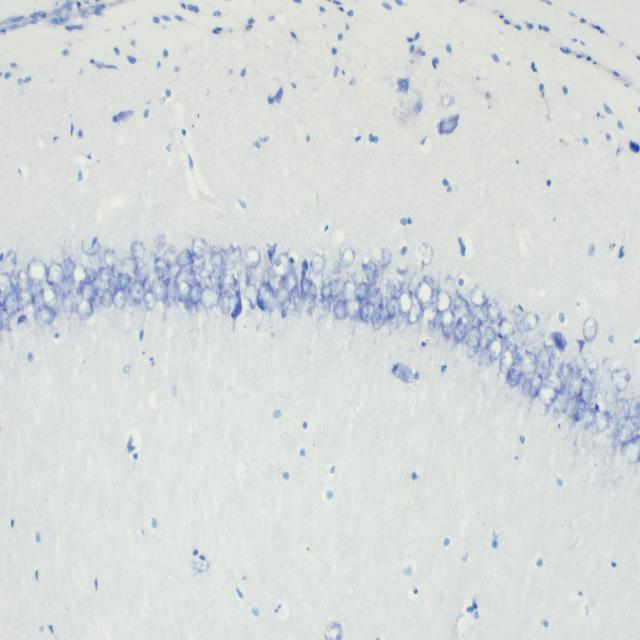neuron: (256, 282, 277, 313), (623, 433, 640, 465), (525, 371, 543, 399), (611, 367, 631, 392), (27, 258, 47, 282), (398, 288, 413, 319), (550, 330, 568, 355), (415, 281, 434, 304), (128, 281, 146, 305), (201, 285, 219, 309), (46, 263, 65, 285), (262, 254, 278, 280), (499, 348, 515, 374), (582, 316, 598, 342), (3, 292, 20, 316), (452, 316, 467, 343), (344, 296, 362, 318), (284, 265, 298, 293), (244, 245, 261, 268), (488, 334, 503, 360), (243, 284, 259, 308), (36, 305, 56, 324), (72, 263, 87, 288), (595, 411, 610, 436), (42, 287, 58, 310), (78, 298, 94, 321), (192, 237, 208, 260), (418, 243, 434, 266), (81, 236, 101, 254), (470, 287, 488, 307), (538, 386, 556, 406), (112, 287, 128, 309), (152, 279, 168, 301), (332, 298, 348, 320), (436, 290, 452, 312), (523, 311, 539, 333), (0, 271, 13, 298), (17, 268, 31, 293), (3, 250, 17, 275), (310, 254, 326, 275), (340, 247, 356, 268), (407, 302, 421, 326), (546, 371, 562, 392), (362, 261, 377, 283), (558, 356, 573, 378), (498, 319, 515, 338), (568, 374, 582, 397), (580, 407, 594, 430), (130, 241, 146, 261), (163, 246, 179, 266), (342, 280, 358, 300), (466, 324, 482, 344), (453, 296, 469, 316), (477, 346, 493, 366), (62, 292, 76, 314), (218, 292, 232, 314), (372, 308, 386, 330), (354, 281, 370, 300), (614, 398, 630, 417), (81, 282, 96, 302), (179, 248, 194, 268), (582, 377, 594, 402), (466, 335, 479, 358), (488, 299, 501, 322), (564, 396, 578, 417), (422, 304, 439, 321), (178, 280, 190, 304), (320, 278, 332, 302), (439, 310, 455, 328), (190, 282, 203, 304), (474, 305, 489, 324), (104, 248, 118, 268), (143, 290, 157, 310), (538, 349, 552, 369), (573, 352, 587, 372), (277, 285, 290, 306), (116, 272, 132, 289), (386, 276, 401, 294), (95, 267, 114, 281), (63, 256, 75, 278), (300, 276, 312, 298), (307, 292, 317, 318), (89, 252, 102, 272), (625, 415, 640, 432), (0, 307, 11, 330), (32, 289, 44, 310), (210, 250, 224, 268), (544, 337, 556, 358), (604, 390, 618, 408), (136, 260, 149, 279), (153, 232, 166, 251), (154, 256, 166, 276), (334, 278, 346, 298), (387, 296, 397, 320), (464, 304, 476, 324), (610, 428, 622, 448), (591, 376, 601, 400), (18, 290, 32, 307), (90, 278, 107, 292), (168, 262, 182, 279), (328, 258, 342, 275), (183, 266, 196, 284), (60, 275, 71, 296), (100, 288, 112, 307), (29, 281, 42, 298), (230, 245, 242, 263), (506, 369, 518, 387), (484, 326, 496, 343), (620, 426, 632, 443), (382, 249, 392, 269), (521, 378, 532, 396), (513, 306, 524, 324), (170, 279, 178, 303), (602, 356, 612, 375), (216, 269, 225, 290), (360, 301, 369, 322), (85, 267, 96, 284), (202, 259, 215, 273), (218, 248, 228, 266), (224, 286, 239, 298), (525, 349, 537, 364), (588, 361, 600, 376), (366, 302, 375, 321), (108, 276, 118, 292), (442, 324, 454, 337), (199, 268, 210, 279)
